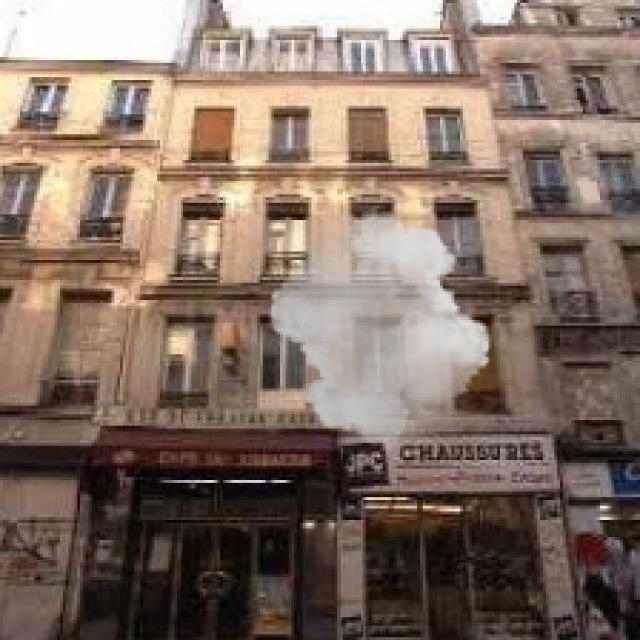Smoke: (260, 206, 500, 451)
